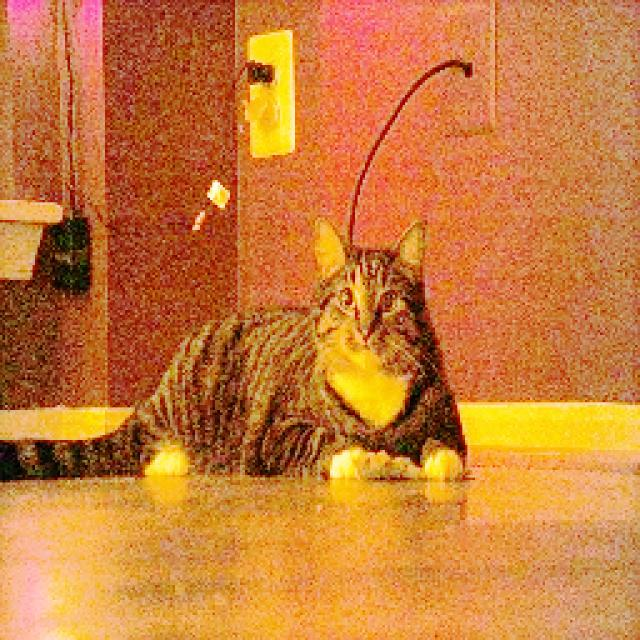cat: (0, 217, 473, 491)
